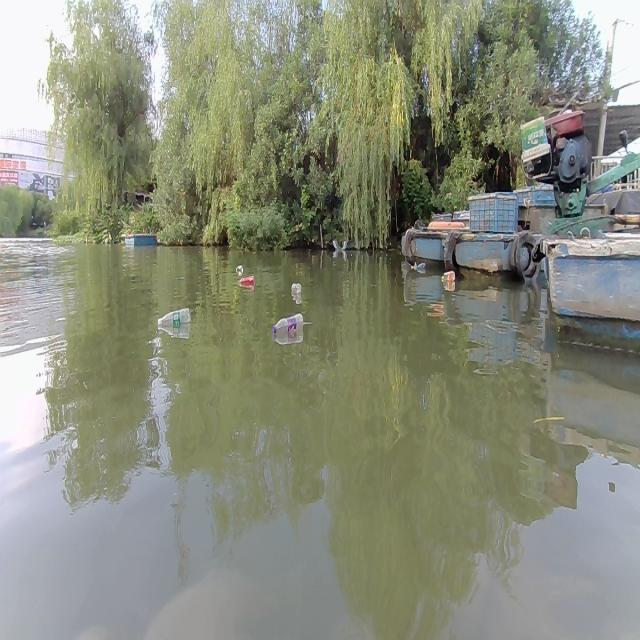bottle: (157, 306, 191, 330), (272, 311, 302, 337), (440, 265, 456, 288), (237, 273, 256, 292), (292, 279, 304, 297), (236, 265, 246, 275), (416, 261, 424, 273)
